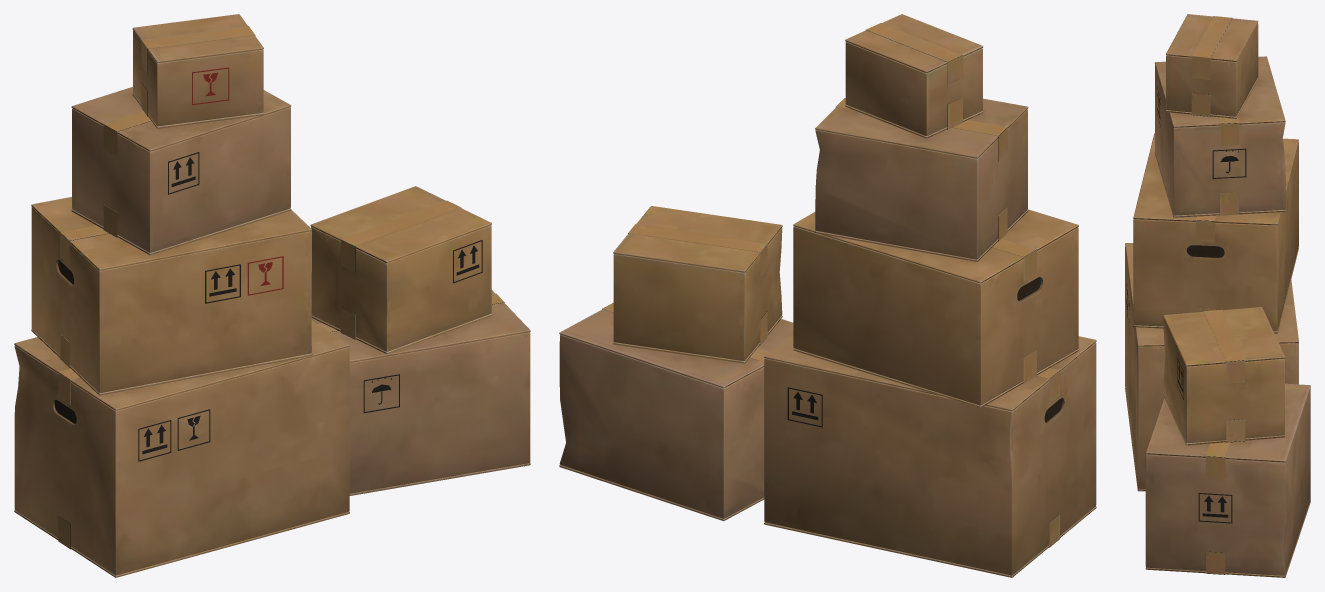
Rendered from cardboard-box-stack.glb.
3 views of the same model, side by side, from view 1: azimuth 30°, elevation 25°; view 2: azimuth 150°, elevation 25°; view 3: azimuth 270°, elevation 25° (orthographic). The views are drawn at different scales.
Visible parts, largest first — view 1: cardboard-box-stack_body, cardboard-box-stack_box_a_print, cardboard-box-stack_box_c_print; view 2: cardboard-box-stack_body; view 3: cardboard-box-stack_body, cardboard-box-stack_box_a_print.
Part boxes in pixels (<box>): cardboard-box-stack_body: <box>14,14,530,577</box>; cardboard-box-stack_box_a_print: <box>138,152,482,461</box>; cardboard-box-stack_box_c_print: <box>192,67,283,295</box>; cardboard-box-stack_body: <box>559,14,1096,577</box>; cardboard-box-stack_body: <box>1125,14,1310,577</box>; cardboard-box-stack_box_a_print: <box>1126,86,1246,523</box>.
Bounding box in the file's own units: 1.13 × 1.12 × 0.4598.
Materials: 3 (1 with a texture image).
